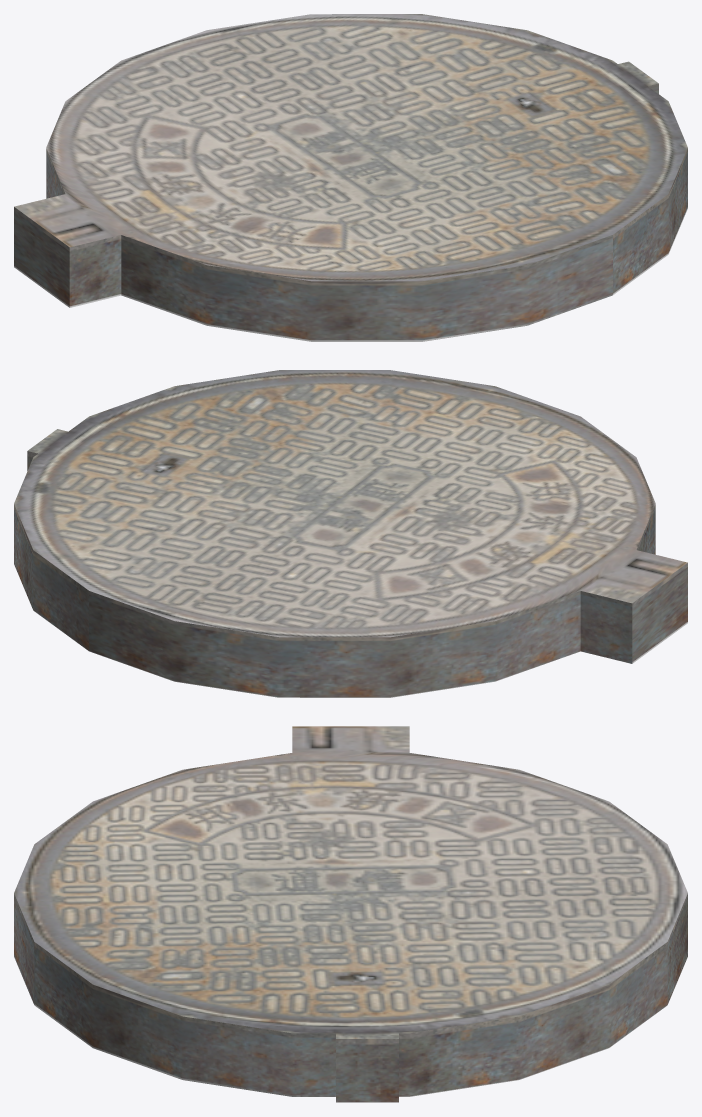
File: jinggai_tongxin.gltf
3 views of the same model, one above another, from view 1: azimuth 30°, elevation 25°; view 2: azimuth 150°, elevation 25°; view 3: azimuth 270°, elevation 25° (orthographic). The views are drawn at different scales.
Parts seen in each view (by area): view 1: jinggai02; view 2: jinggai02; view 3: jinggai02.
Boxes of the visible parts, <box> form: jinggai02: <box>14,14,687,341</box>; jinggai02: <box>14,370,687,697</box>; jinggai02: <box>14,726,687,1102</box>.
Size of the model in its own units: 0.5267 by 0.05 by 0.48.
1 material, 1 textured.
